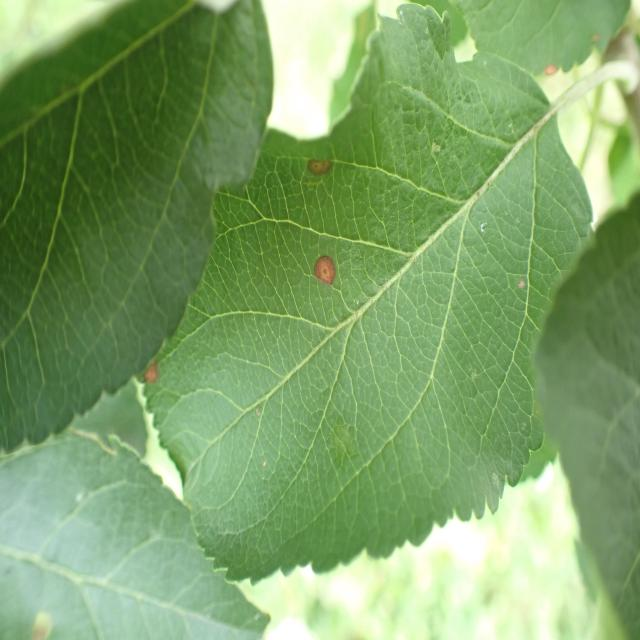Black Rot: (130, 350, 176, 400), (308, 246, 343, 300), (300, 142, 346, 182), (538, 59, 567, 90)
